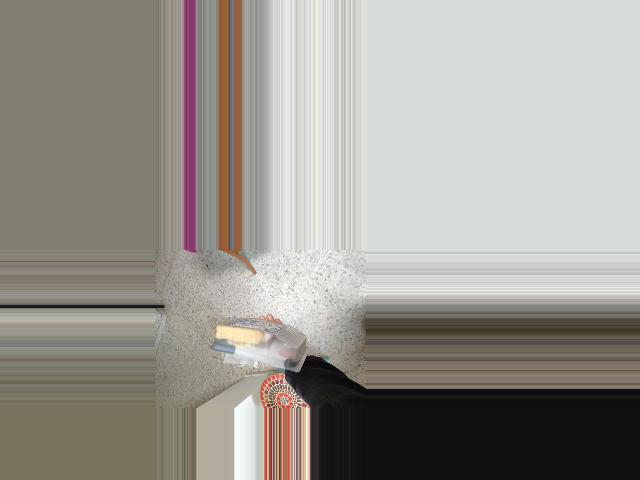cheese: (210, 316, 305, 375)
